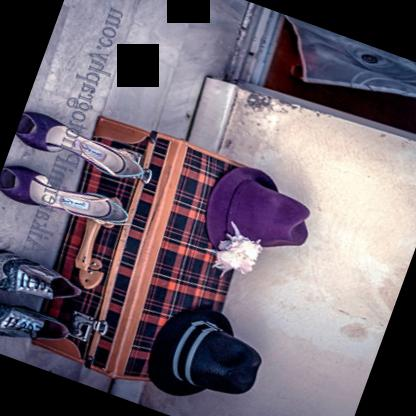suitcase: (27, 110, 246, 381)
